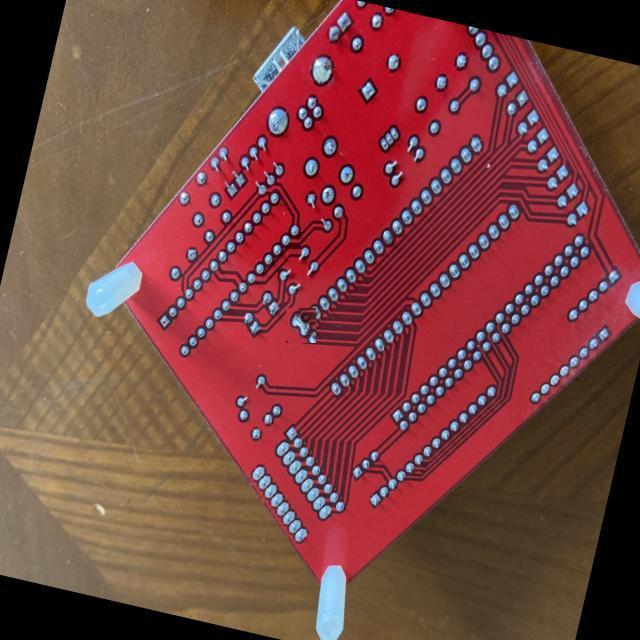damged: (287, 309, 315, 342)
